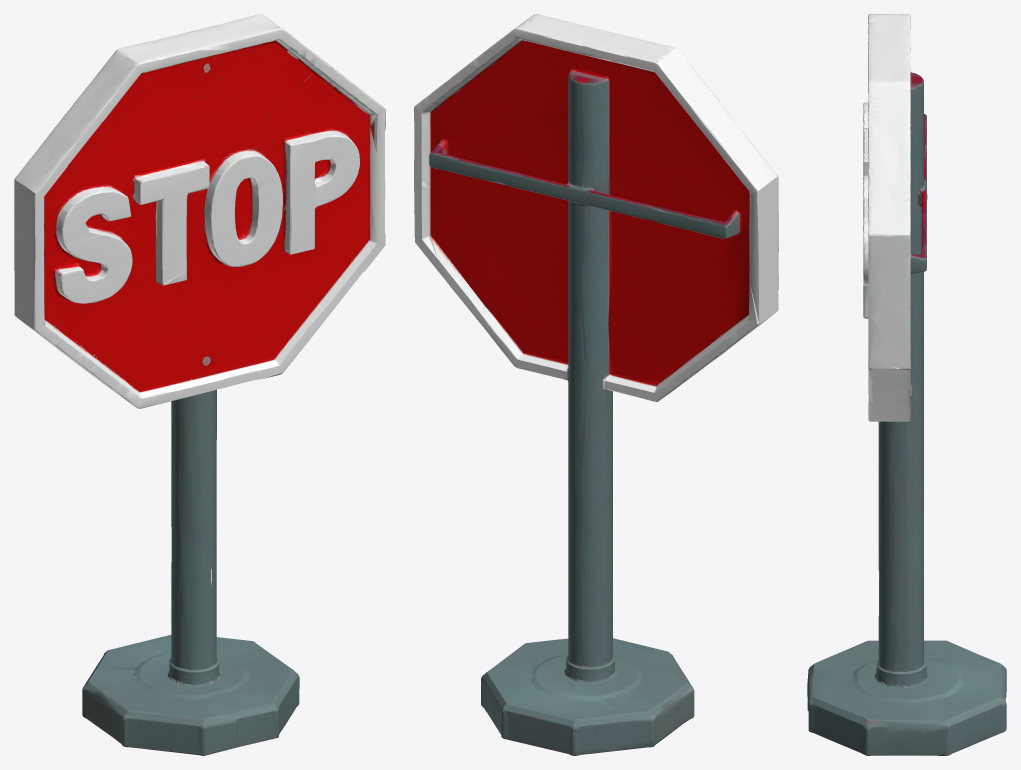
Rendered from stopsign.glb.
3 renders of one model, left to right at view 1: azimuth 30°, elevation 25°; view 2: azimuth 150°, elevation 25°; view 3: azimuth 270°, elevation 25°, orthographic.
Bounding box in the file's own units: 1.03 × 1.9 × 0.5145.
1 material, 1 textured.
